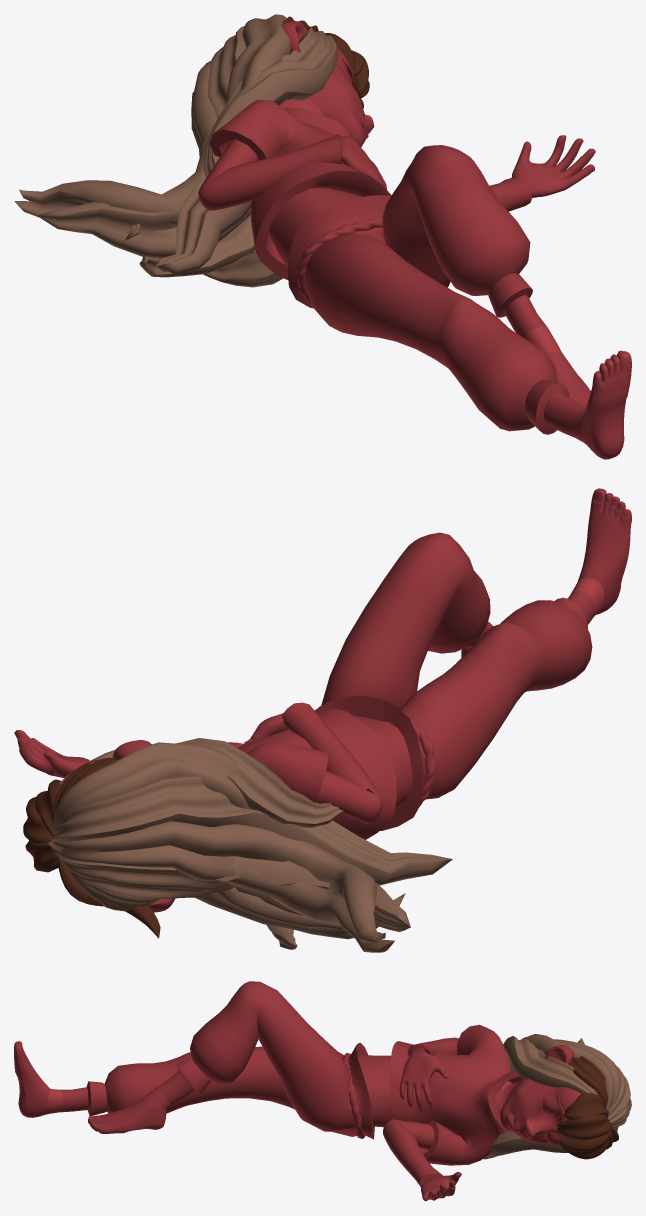
File: Victim_Game.fbx
3 renders of one model, top to bottom at view 1: azimuth 30°, elevation 25°; view 2: azimuth 150°, elevation 25°; view 3: azimuth 270°, elevation 25°, orthographic. The views are drawn at different scales.
Parts seen in each view (by area): view 1: ShoulderFix, ShoulderFix.005, ShoulderFix.001; view 2: ShoulderFix, ShoulderFix.005, ShoulderFix.001; view 3: ShoulderFix, ShoulderFix.005, ShoulderFix.001, ShoulderFix.002.
Part boxes in pixels (x1=…): ShoulderFix: x1=198, y1=21, x2=629, y2=457; ShoulderFix.005: x1=14, y1=14, x2=369, y2=287; ShoulderFix.001: x1=525, y1=326, x2=631, y2=459; ShoulderFix: x1=14, y1=488, x2=631, y2=912; ShoulderFix.005: x1=23, y1=738, x2=452, y2=952; ShoulderFix.001: x1=464, y1=490, x2=631, y2=651; ShoulderFix: x1=16, y1=981, x2=581, y2=1201; ShoulderFix.005: x1=483, y1=1034, x2=631, y2=1159; ShoulderFix.001: x1=14, y1=1042, x2=171, y2=1133; ShoulderFix.002: x1=495, y1=1080, x2=520, y2=1114.
Bounding box in the file's own units: 5.41 × 2.82 × 8.78.
